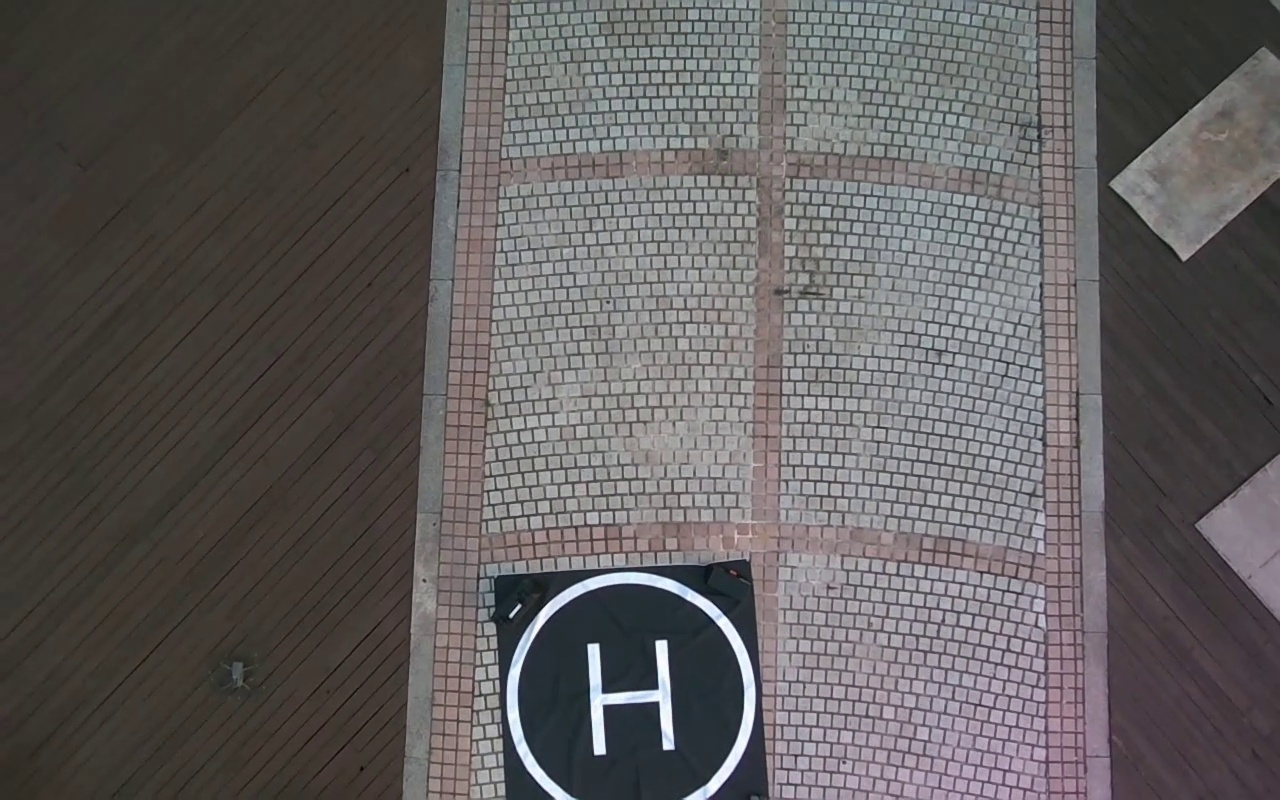H: (585, 639, 675, 754)
heliport: (502, 573, 758, 800)
